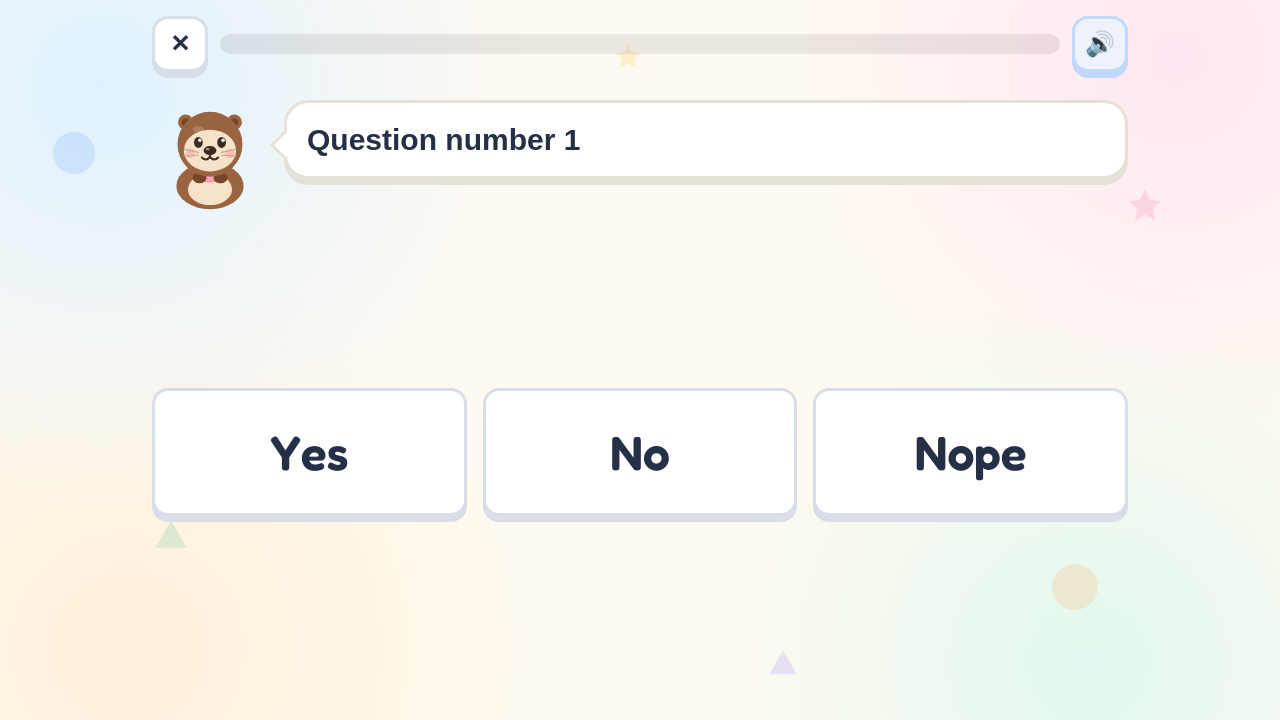
Test: Session answer flow › has no hint button or retry when the mode allows no retries
Click the button "No": (640, 452) [483,388,797,516]
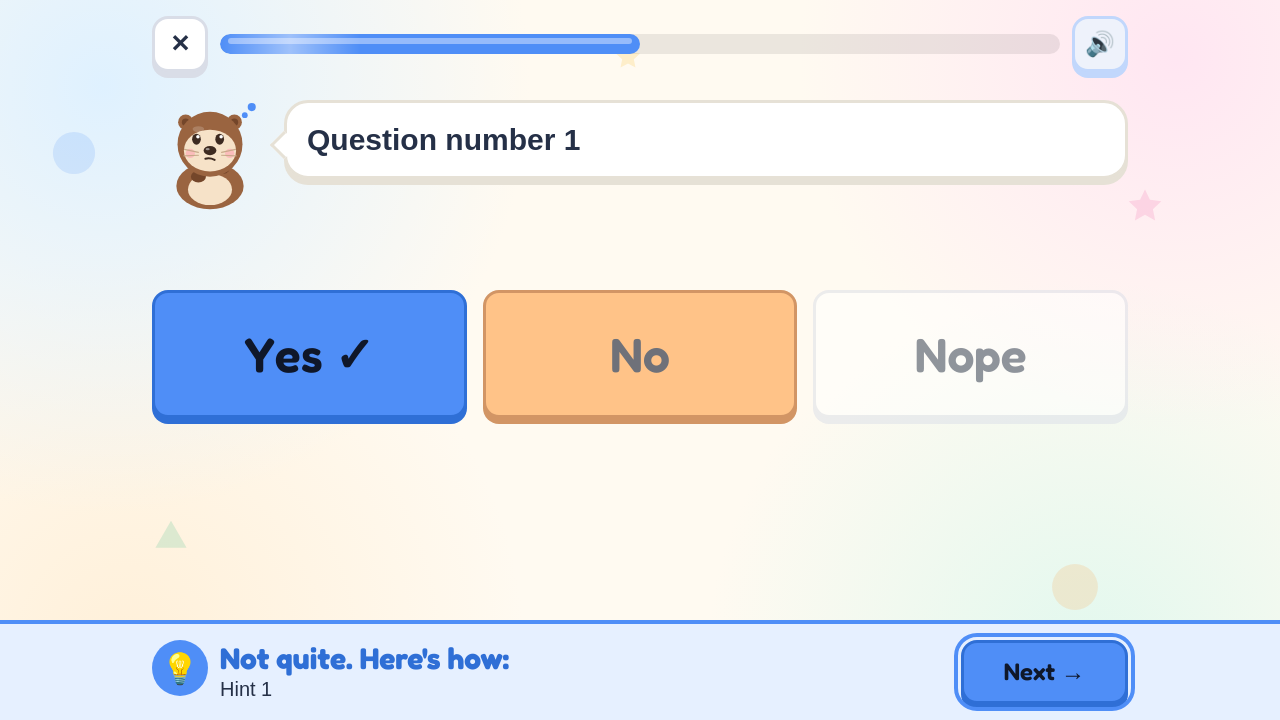
Expected: the text "Not quite. Here's how:" is shown, [220,640,509,676]
